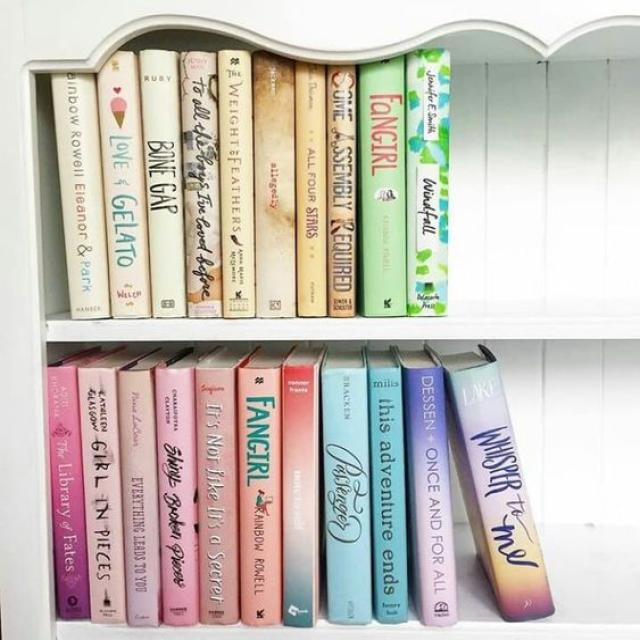book: (453, 363, 554, 621), (96, 50, 153, 318), (51, 72, 108, 318), (407, 367, 457, 625), (320, 369, 370, 624), (405, 46, 450, 315), (360, 55, 406, 317), (79, 369, 126, 621), (141, 50, 185, 318), (253, 51, 296, 318), (195, 369, 240, 624), (239, 368, 280, 625), (155, 369, 196, 626), (118, 371, 159, 627), (182, 53, 221, 318), (48, 367, 88, 619), (369, 366, 408, 622), (220, 50, 254, 317), (281, 367, 315, 626), (297, 61, 326, 318), (330, 65, 356, 316)
